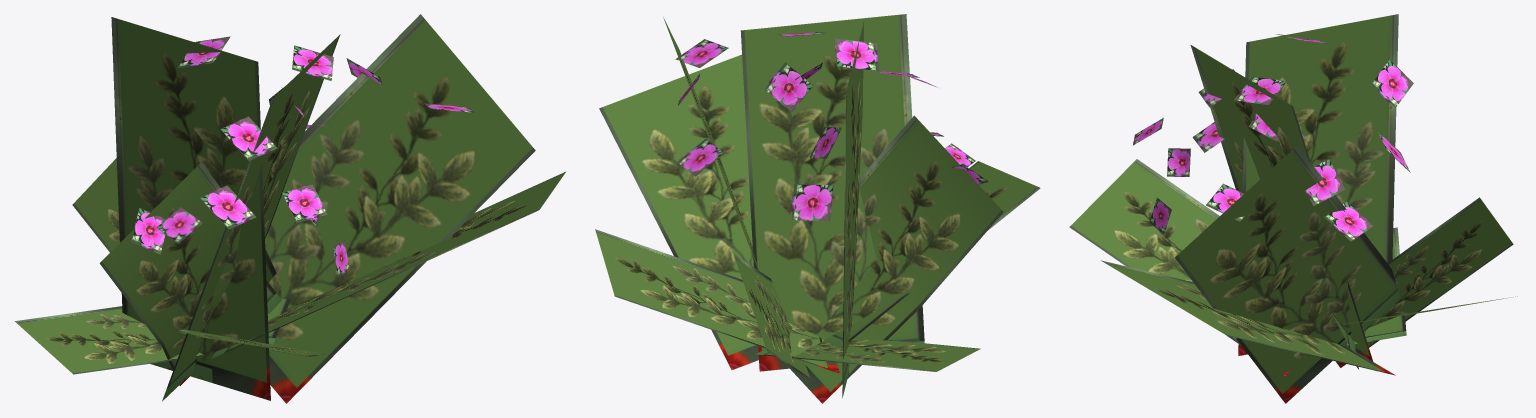
The model's file is flower_6_lod.FBX.
3 renders of one model, left to right at view 1: azimuth 30°, elevation 25°; view 2: azimuth 150°, elevation 25°; view 3: azimuth 270°, elevation 25°, orthographic. The views are drawn at different scales.
Parts seen in each view (by area): view 1: Mesh Object; view 2: Mesh Object; view 3: Mesh Object.
Boxes of the visible parts, x1,y1,x2,y2 form: Mesh Object: (14, 14, 565, 403); Mesh Object: (595, 14, 1040, 403); Mesh Object: (1069, 14, 1517, 403).
Size of the model in its own units: 1.22 by 0.9478 by 1.14.
